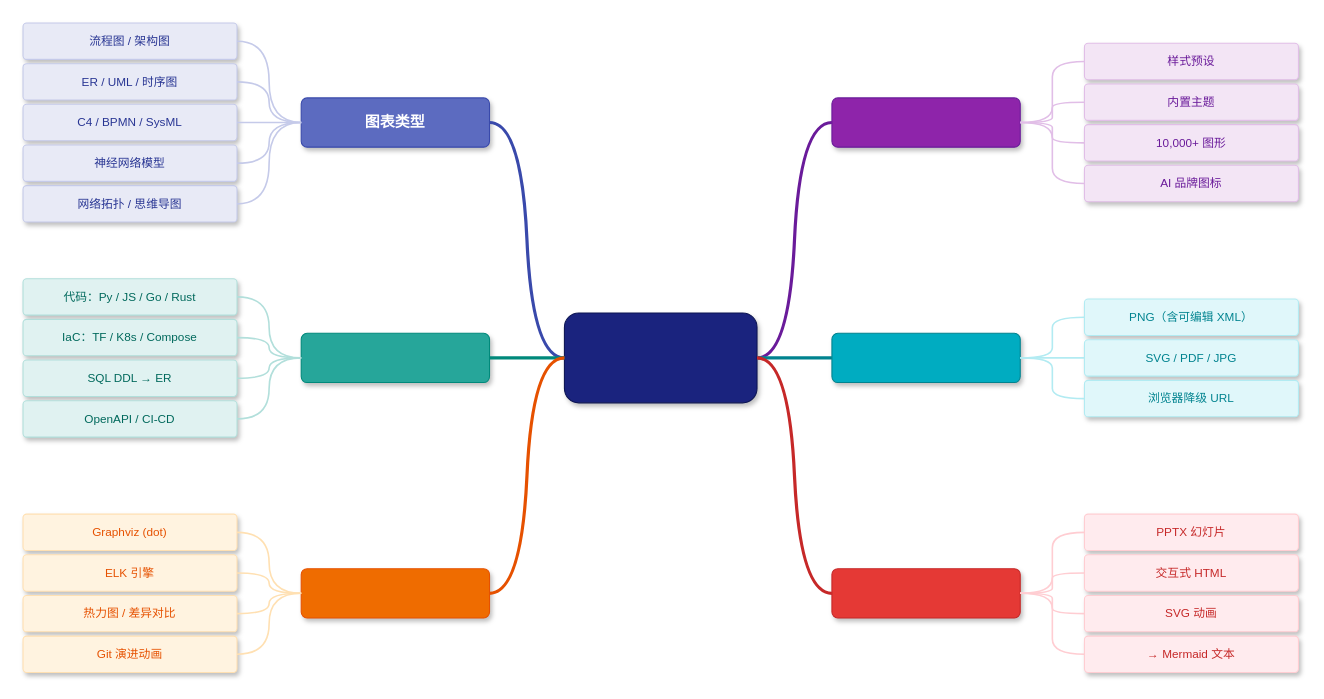
The diagram is 1324 pixels wide and 699 high, and some of its shapes have lost their labels. The shapes that lost their labels are listed below. From the top down, each one's centre as x and y in pixels, then its label:
At point 927,124: "样式".
At point 396,359: "导入来源".
At point 661,359: "drawio-skill".
At point 927,359: "导出".
At point 396,594: "自动布局".
At point 927,594: "二次利用".
